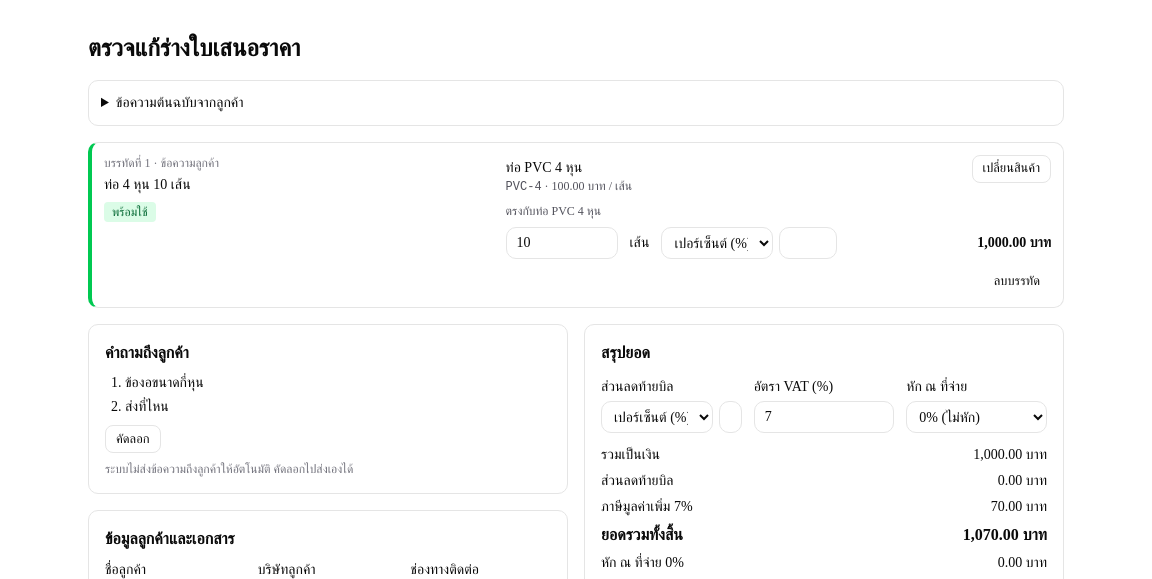
number inputs › rejects a percent discount over 100 without storing it
The image size is (1152, 579).
Type "150" into the field named "ส่วนลด บรรทัดที่ 1" at (808, 243), box 779,227 -> 837,259
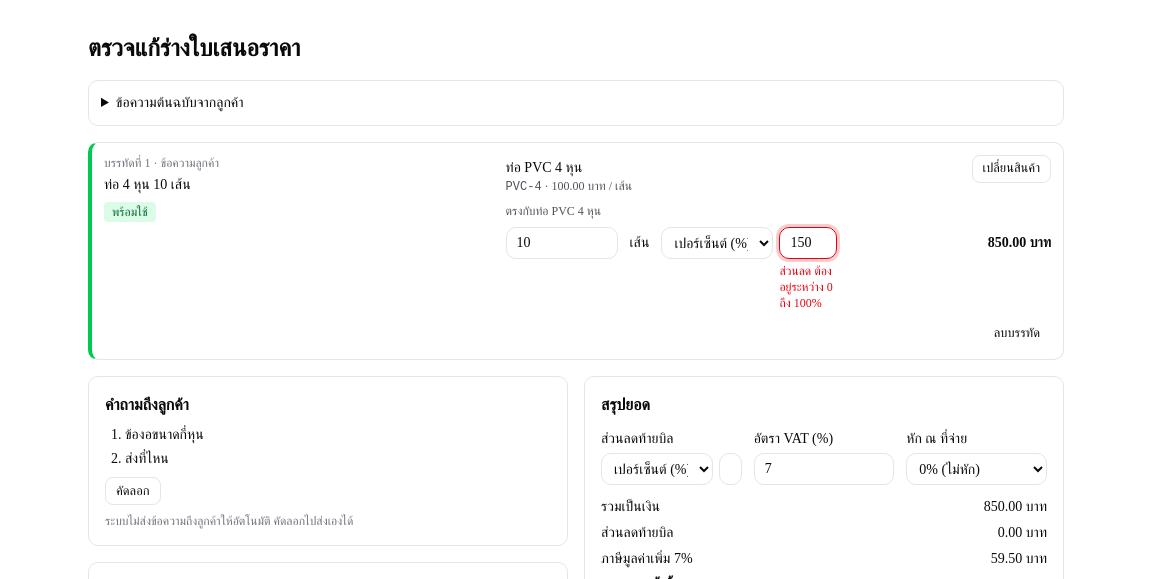
Check: the text "ส่วนลด ต้องอยู่ระหว่าง 0 ถึง 100%" is shown, box 779,263 -> 837,311
